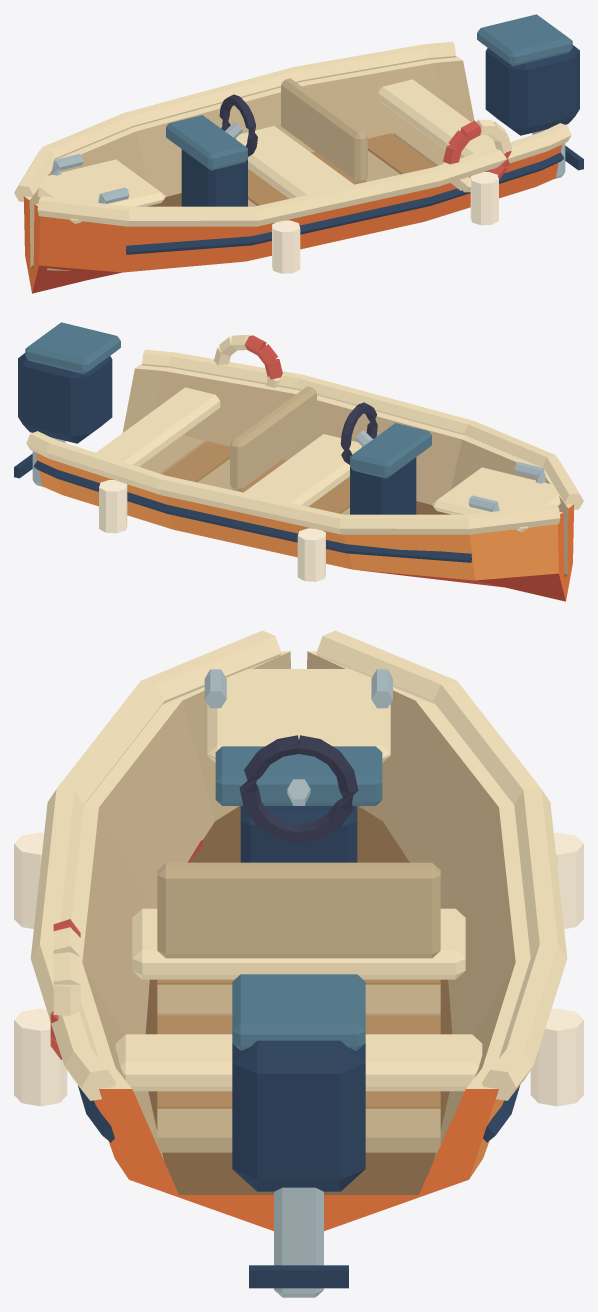
3 renders of one model, top to bottom at view 1: azimuth 30°, elevation 25°; view 2: azimuth 150°, elevation 25°; view 3: azimuth 270°, elevation 25°, orthographic. The views are drawn at different scales.
Parts seen in each view (by area): view 1: Boat_Hull, Continuous cream gunwale -1, Continuous cream gunwale 1, Outboard engine, Driver backrest, Driver bench, Painted blue side stripe -1, Bow flotation deck, Rear bench, Outboard cap, Helm pedestal, Helm console (+8 smaller); view 2: Boat_Hull, Continuous cream gunwale 1, Continuous cream gunwale -1, Outboard engine, Driver backrest, Driver bench, Rear bench, Painted blue side stripe 1, Bow flotation deck, Outboard cap, Helm pedestal, Helm console (+8 smaller); view 3: Boat_Hull, Driver backrest, Continuous cream gunwale 1, Outboard engine, Continuous cream gunwale -1, Rear bench, Bow flotation deck, Outboard cap, Driver bench, Helm console, Interior floor plank 6, Steering wheel (+13 smaller).
Part boxes in pixels (box(x1,y1,x2,y2)): Boat_Hull: box(23, 55, 561, 293); Continuous cream gunwale -1: box(37, 123, 571, 226); Continuous cream gunwale 1: box(14, 41, 455, 201); Outboard engine: box(485, 45, 579, 135); Driver backrest: box(281, 78, 367, 183); Driver bench: box(236, 126, 353, 198); Painted blue side stripe -1: box(126, 152, 564, 254); Bow flotation deck: box(37, 159, 165, 223); Rear bench: box(377, 79, 495, 158); Outboard cap: box(477, 14, 572, 66); Helm pedestal: box(181, 149, 247, 206); Helm console: box(166, 115, 247, 170); Boat_Hull: box(36, 363, 574, 601); Continuous cream gunwale 1: box(26, 431, 560, 534); Continuous cream gunwale -1: box(142, 349, 583, 509); Outboard engine: box(18, 353, 112, 443); Driver backrest: box(230, 386, 316, 491); Driver bench: box(244, 434, 361, 506); Rear bench: box(96, 387, 220, 466); Painted blue side stripe 1: box(33, 460, 471, 562); Bow flotation deck: box(432, 467, 560, 531); Outboard cap: box(25, 322, 120, 374); Helm pedestal: box(350, 457, 416, 514); Helm console: box(350, 423, 431, 478); Boat_Hull: box(71, 651, 530, 1230); Driver backrest: box(157, 862, 440, 958); Continuous cream gunwale 1: box(316, 630, 567, 1100); Outboard engine: box(232, 1040, 365, 1191); Continuous cream gunwale -1: box(30, 630, 281, 1100); Rear bench: box(115, 1034, 482, 1091); Bow flotation deck: box(207, 669, 390, 762); Outboard cap: box(232, 974, 365, 1050); Driver bench: box(132, 908, 465, 979); Helm console: box(215, 746, 382, 805); Interior floor plank 6: box(157, 1108, 440, 1152); Steering wheel: box(239, 735, 358, 843).
Size of the model in its own units: 68.49 by 18.56 by 34.2.
1 material, 1 textured.
